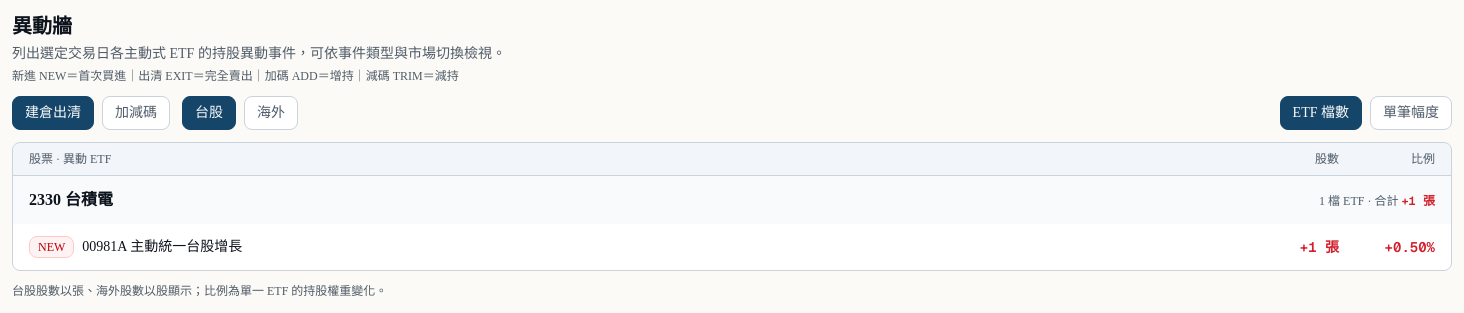
ChangeWall › 空分類顯示當日無異動
Click the button "海外" at (271, 113), box [244,96,298,130]
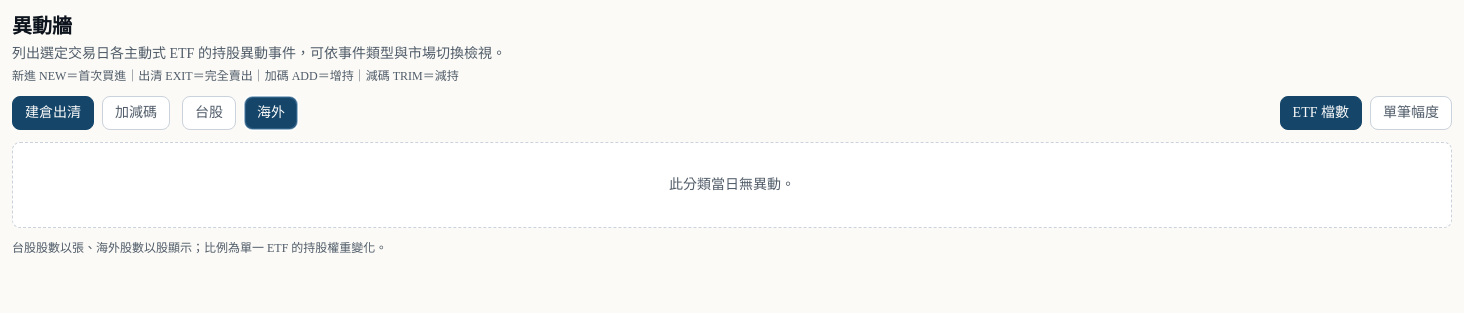
Expected: the text "此分類當日無異動。" is shown, [12,142,1452,228]
